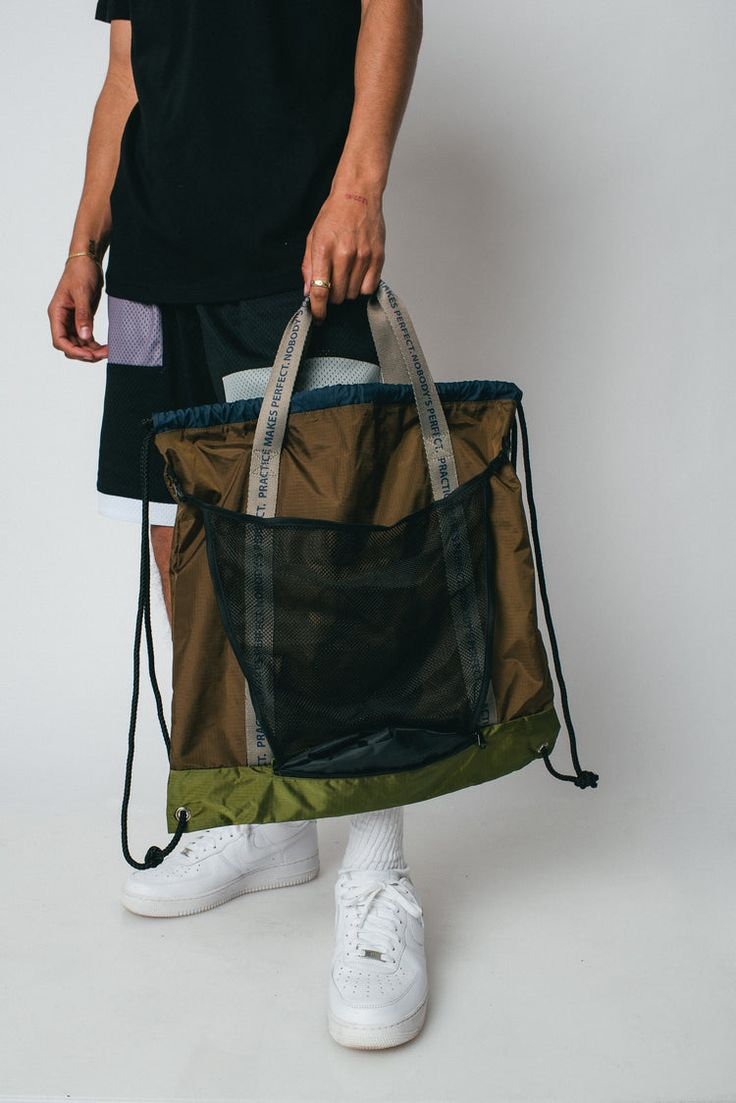nylon: (151, 392, 564, 829)
